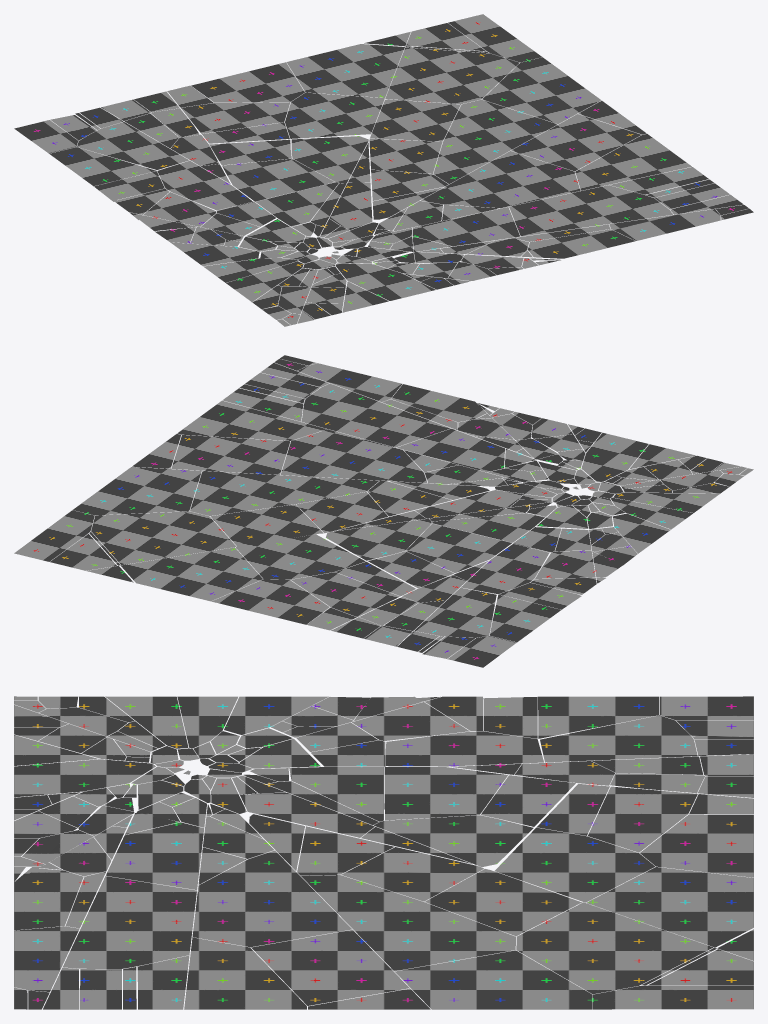
The model's file is fractured_loose.fbx.
The picture shows the model from 3 angles, top to bottom: view 1: azimuth 30°, elevation 25°; view 2: azimuth 150°, elevation 25°; view 3: azimuth 270°, elevation 25°; orthographic projection. The views are drawn at different scales.
Parts seen in each view (by area): view 1: Cube_cell_032_cell_105, Cube_cell_032_cell_106, Cube_cell_032_cell_047, Cube_cell_032_cell_002, Cube_cell_032_cell_019, Cube_cell_032_cell_107, Cube_cell_032_cell_053, Cube_cell_032_cell_023, Cube_cell_032_cell_054, Cube_cell_032_cell_022, Cube_cell_032_cell_102, Cube_cell_032_cell_028 (+49 smaller); view 2: Cube_cell_032_cell_105, Cube_cell_032_cell_106, Cube_cell_032_cell_047, Cube_cell_032_cell_002, Cube_cell_032_cell_019, Cube_cell_032_cell_107, Cube_cell_032_cell_053, Cube_cell_032_cell_023, Cube_cell_032_cell_054, Cube_cell_032_cell_022, Cube_cell_032_cell_102, Cube_cell_032_cell_028 (+49 smaller); view 3: Cube_cell_032_cell_105, Cube_cell_032_cell_106, Cube_cell_032_cell_047, Cube_cell_032_cell_002, Cube_cell_032_cell_019, Cube_cell_032_cell_107, Cube_cell_032_cell_053, Cube_cell_032_cell_023, Cube_cell_032_cell_054, Cube_cell_032_cell_022, Cube_cell_032_cell_028, Cube_cell_032_cell_102 (+68 smaller).
Part boxes in pixels (bbox=[...]): Cube_cell_032_cell_105: bbox=[385, 47, 519, 104]; Cube_cell_032_cell_106: bbox=[433, 99, 557, 183]; Cube_cell_032_cell_047: bbox=[421, 151, 580, 208]; Cube_cell_032_cell_002: bbox=[509, 185, 672, 236]; Cube_cell_032_cell_019: bbox=[286, 44, 404, 97]; Cube_cell_032_cell_107: bbox=[482, 57, 601, 123]; Cube_cell_032_cell_053: bbox=[511, 114, 641, 171]; Cube_cell_032_cell_023: bbox=[285, 92, 384, 138]; Cube_cell_032_cell_054: bbox=[575, 134, 691, 190]; Cube_cell_032_cell_022: bbox=[191, 62, 304, 102]; Cube_cell_032_cell_102: bbox=[370, 99, 460, 141]; Cube_cell_032_cell_028: bbox=[222, 158, 334, 201]; Cube_cell_032_cell_105: bbox=[91, 511, 236, 564]; Cube_cell_032_cell_106: bbox=[190, 471, 378, 515]; Cube_cell_032_cell_047: bbox=[280, 429, 427, 482]; Cube_cell_032_cell_002: bbox=[301, 383, 450, 447]; Cube_cell_032_cell_019: bbox=[120, 547, 262, 601]; Cube_cell_032_cell_107: bbox=[73, 467, 201, 515]; Cube_cell_032_cell_053: bbox=[171, 435, 290, 474]; Cube_cell_032_cell_023: bbox=[236, 534, 365, 579]; Cube_cell_032_cell_054: bbox=[177, 400, 326, 440]; Cube_cell_032_cell_022: bbox=[211, 579, 329, 624]; Cube_cell_032_cell_102: bbox=[210, 504, 323, 546]; Cube_cell_032_cell_028: bbox=[406, 523, 511, 572]; Cube_cell_032_cell_105: bbox=[516, 902, 713, 994]; Cube_cell_032_cell_106: bbox=[301, 875, 515, 971]; Cube_cell_032_cell_047: bbox=[192, 850, 351, 947]; Cube_cell_032_cell_002: bbox=[63, 876, 196, 968]; Cube_cell_032_cell_019: bbox=[586, 867, 753, 947]; Cube_cell_032_cell_107: bbox=[395, 950, 592, 1009]; Cube_cell_032_cell_053: bbox=[251, 929, 409, 1005]; Cube_cell_032_cell_023: bbox=[495, 827, 655, 902]; Cube_cell_032_cell_054: bbox=[184, 937, 306, 1009]; Cube_cell_032_cell_022: bbox=[640, 814, 753, 877]; Cube_cell_032_cell_028: bbox=[384, 767, 507, 820]; Cube_cell_032_cell_102: bbox=[425, 869, 582, 936].
Size of the model in its own units: 2 by 0.00452 by 2.
1 material, 1 textured.
